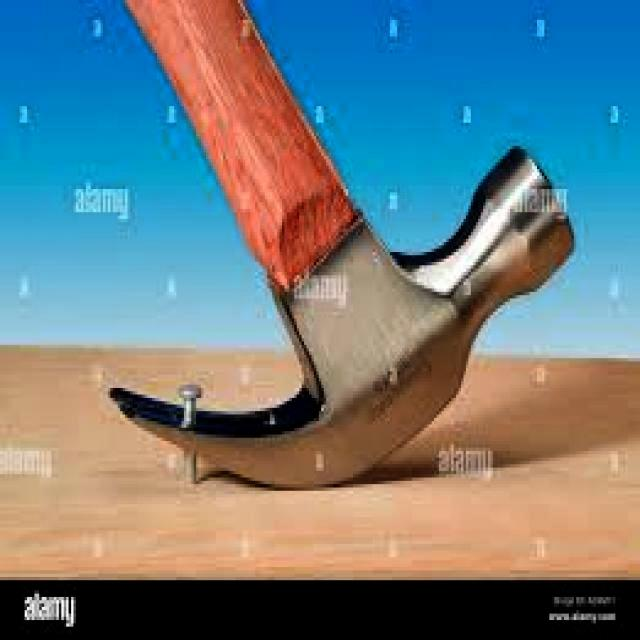hammer: (97, 0, 582, 494)
